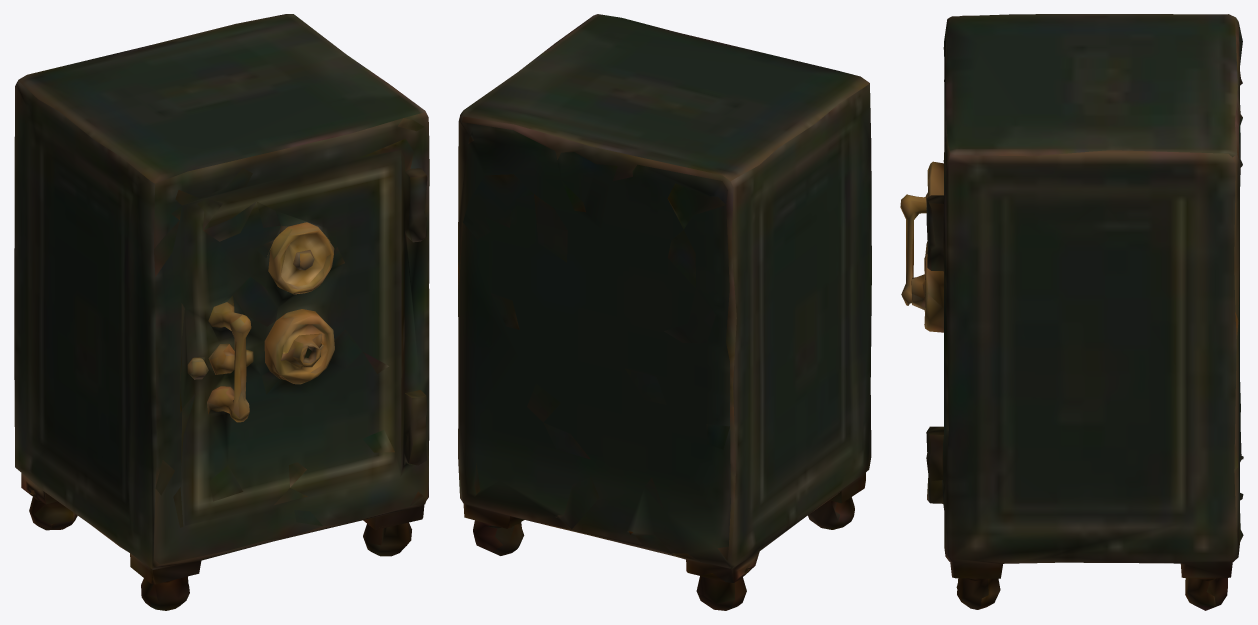
Rendered from caja_fuerte.movil.glb.
3 renders of one model, left to right at view 1: azimuth 30°, elevation 25°; view 2: azimuth 150°, elevation 25°; view 3: azimuth 270°, elevation 25°, orthographic. The views are drawn at different scales.
Visible parts, largest first — view 1: geometry_0; view 2: geometry_0; view 3: geometry_0.
Boxes of the visible parts, x1,y1,x2,y2 form: geometry_0: [14, 14, 429, 610]; geometry_0: [458, 14, 871, 610]; geometry_0: [900, 14, 1243, 610].
Size of the model in its own units: 0.5958 by 0.8996 by 0.5985.
1 material, 1 textured.
